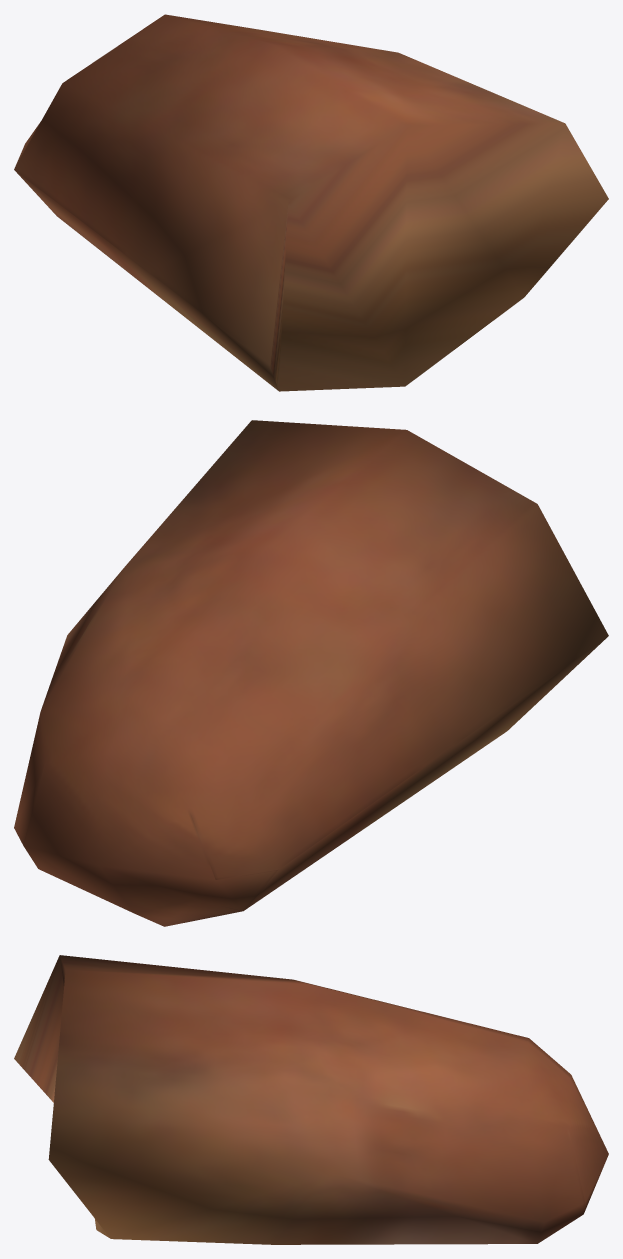
File: pinky_03_l.dae
3 renders of one model, top to bottom at view 1: azimuth 30°, elevation 25°; view 2: azimuth 150°, elevation 25°; view 3: azimuth 270°, elevation 25°, orthographic. The views are drawn at different scales.
Parts seen in each view (by area): view 1: pinky_3_l; view 2: pinky_3_l; view 3: pinky_3_l.
Boxes of the visible parts, x1=… form: pinky_3_l: x1=14, y1=14, x2=608, y2=391; pinky_3_l: x1=14, y1=420, x2=608, y2=926; pinky_3_l: x1=14, y1=955, x2=608, y2=1244.
Bounding box in the file's own units: 0.0168 × 0.0263 × 0.0126.
Materials: 1 (1 with a texture image).
